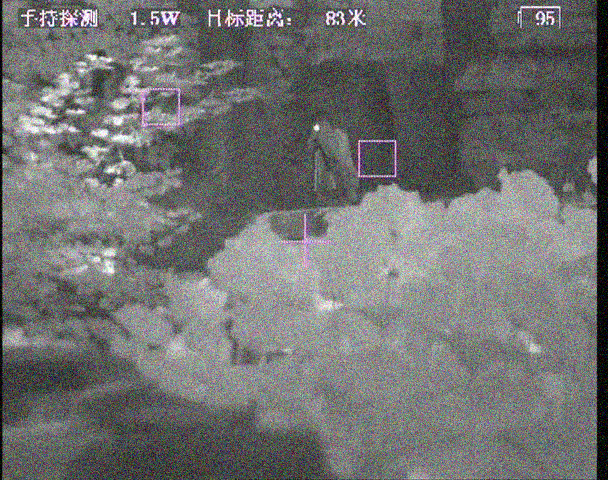my: (312, 124, 320, 132)
